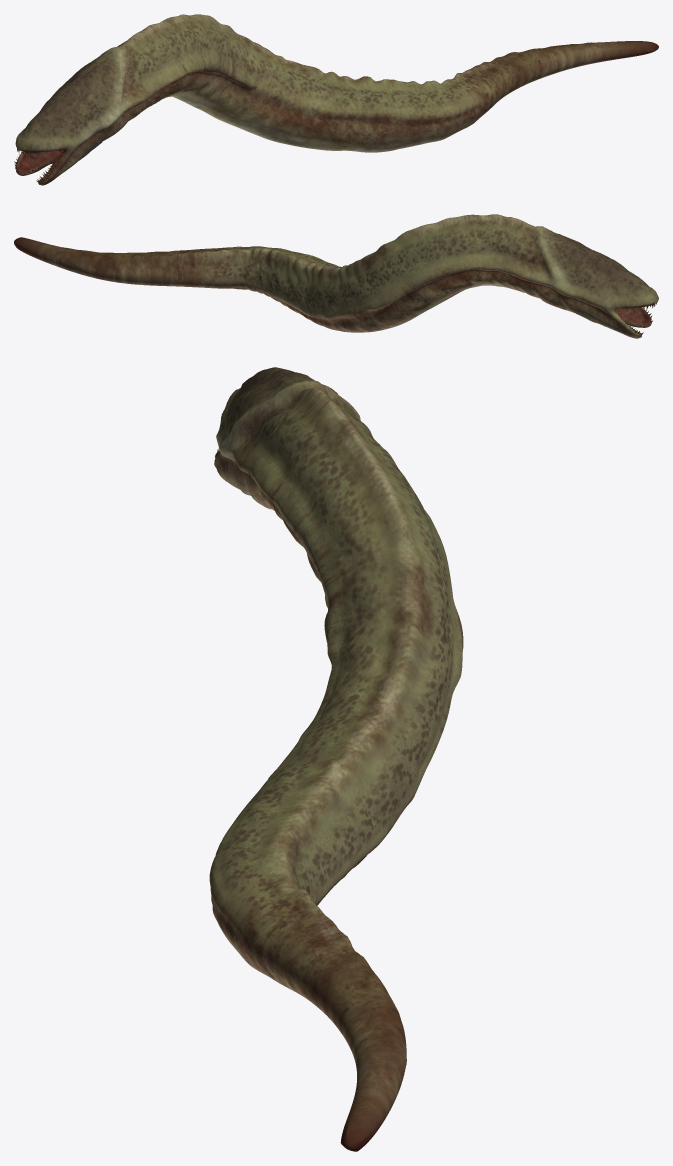
Rendered from Giant Worm Creature.obj.
3 views of the same model, one above another, from view 1: azimuth 30°, elevation 25°; view 2: azimuth 150°, elevation 25°; view 3: azimuth 270°, elevation 25° (orthographic). The views are drawn at different scales.
Visible parts, largest first — view 1: Giant_Worm_Creature Worm_Body; view 2: Giant_Worm_Creature Worm_Body; view 3: Giant_Worm_Creature Worm_Body.
Part boxes in pixels (x1,y1,x2,y2): Giant_Worm_Creature Worm_Body: [15, 14, 658, 185]; Giant_Worm_Creature Worm_Body: [14, 214, 658, 338]; Giant_Worm_Creature Worm_Body: [209, 367, 463, 1151].
Bounding box in the file's own units: 839 × 200 × 149.
